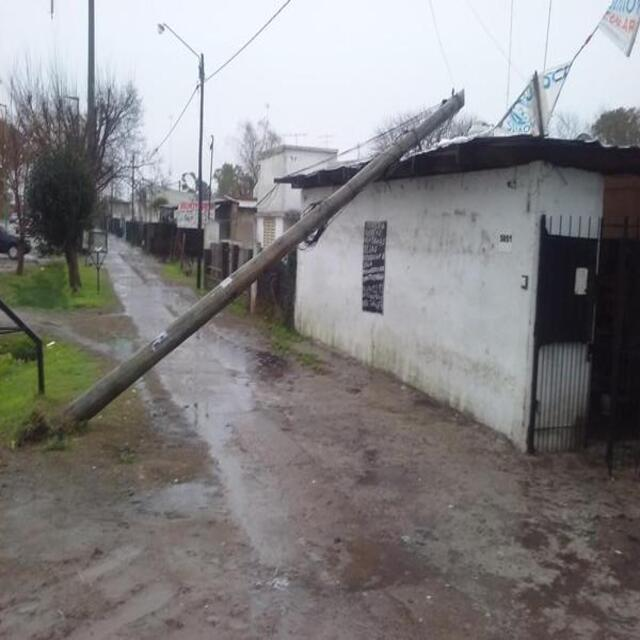Inclined Pole: (40, 84, 473, 433)
